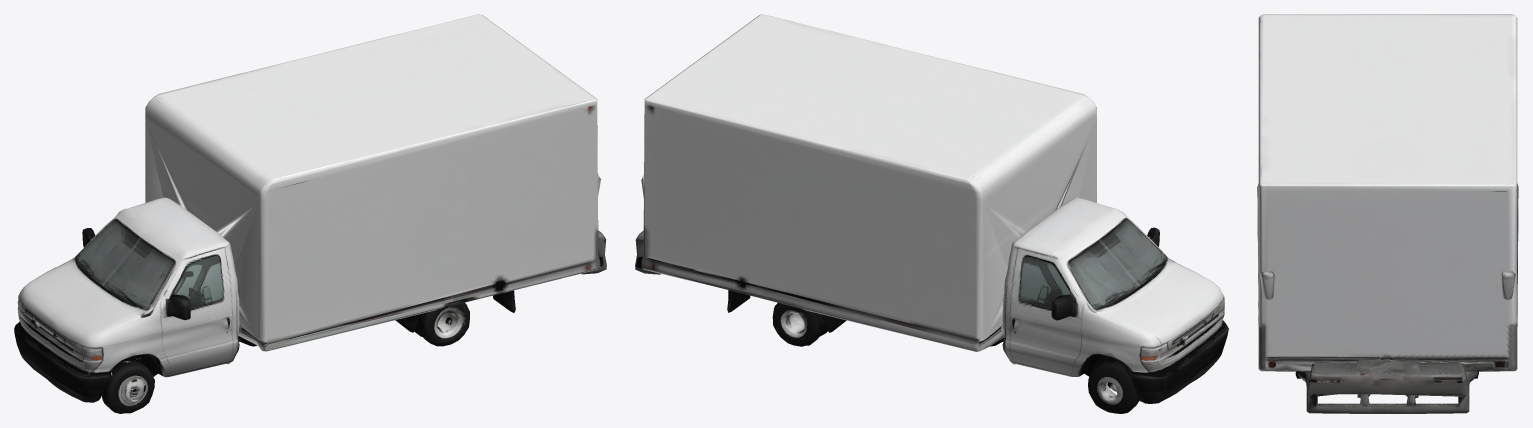
File: White_Box_Truck_0621001436_texture.glb
3 views of the same model, side by side, from view 1: azimuth 30°, elevation 25°; view 2: azimuth 150°, elevation 25°; view 3: azimuth 270°, elevation 25° (orthographic). The views are drawn at different scales.
Visible parts, largest first — view 1: Mesh_0; view 2: Mesh_0; view 3: Mesh_0.
Part boxes in pixels (x1,y1,x2,y2): Mesh_0: (14, 14, 606, 413); Mesh_0: (635, 14, 1228, 413); Mesh_0: (1257, 14, 1518, 413).
Bounding box in the file's own units: 8.36 × 3.35 × 3.28.
Materials: 1 (1 with a texture image).
